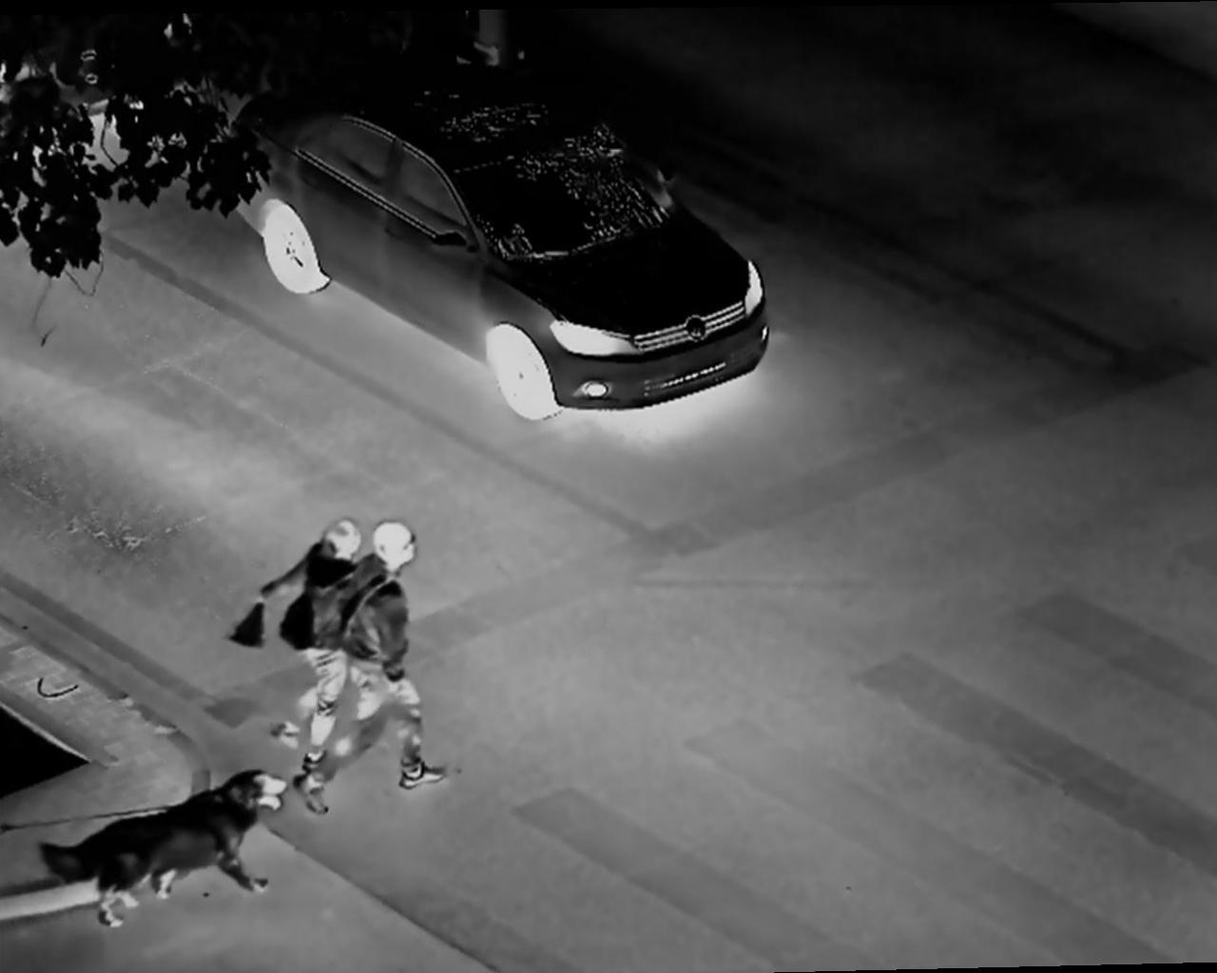person: (338, 516, 461, 814), (255, 514, 349, 758)
